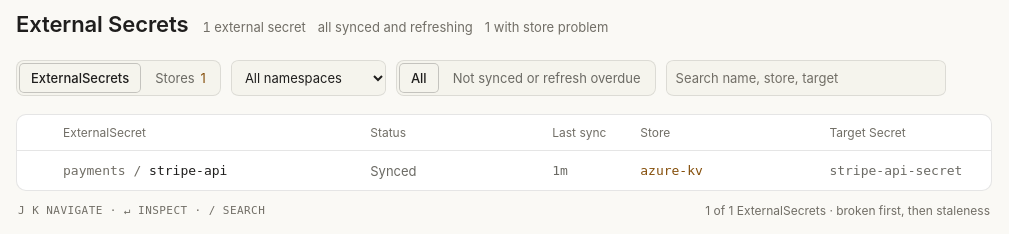
it: ExternalSecretsView › lists store health with providers under the stores filter
The width and height of the screenshot is (1009, 234).
Click the button "Stores 1" at (181, 78), box 143,63 -> 218,93
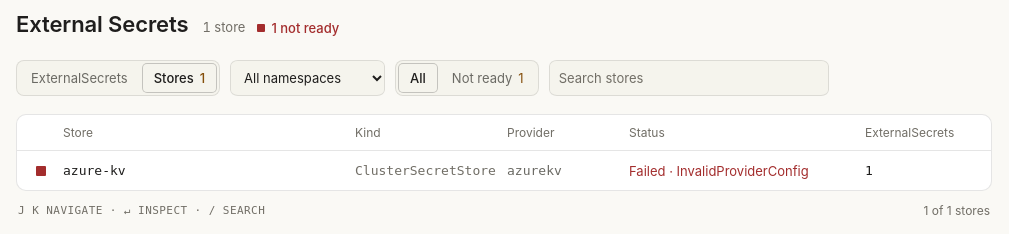
Check: the button with class "lens-row" shows "azure-kv", box 17,151 -> 991,191
Check: the button with class "lens-row" shows "azurekv", box 17,151 -> 991,191
Check: the button with class "lens-row" shows "InvalidProviderConfig", box 17,151 -> 991,191
